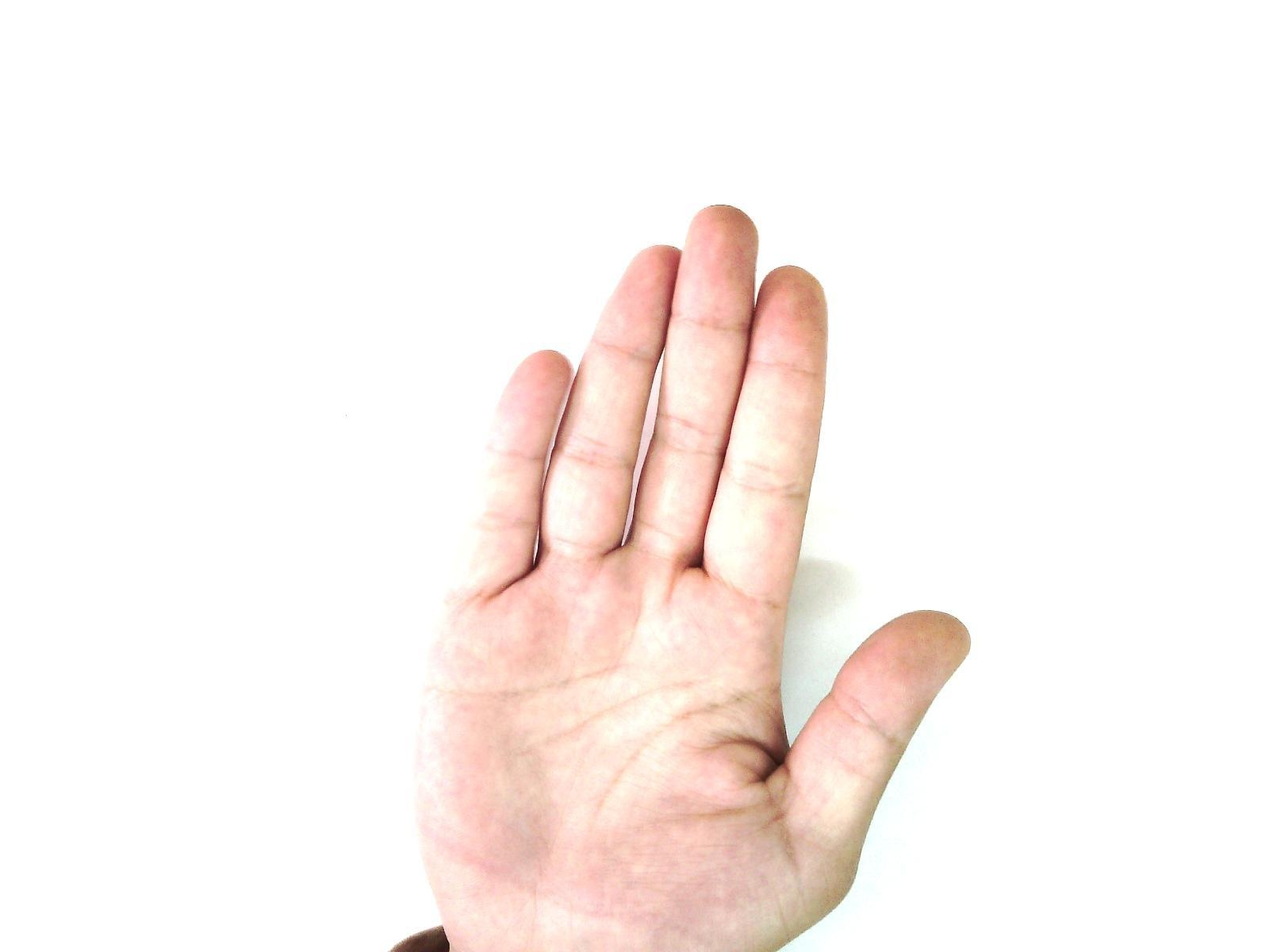open_palm: (408, 203, 973, 952)
